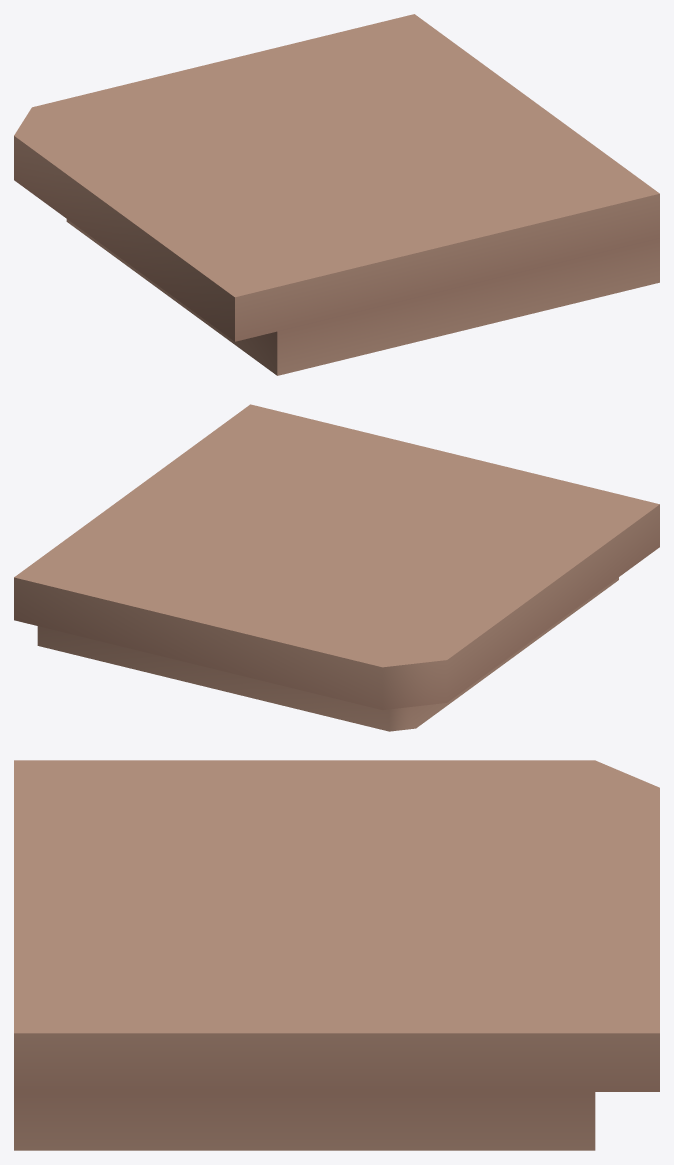
Rendered from surfaces-quarter-surface-edge.glb.
3 views of the same model, one above another, from view 1: azimuth 30°, elevation 25°; view 2: azimuth 150°, elevation 25°; view 3: azimuth 270°, elevation 25° (orthographic). The views are drawn at different scales.
Parts seen in each view (by area): view 1: surfaces-quarter-surface-edge; view 2: surfaces-quarter-surface-edge; view 3: surfaces-quarter-surface-edge.
Boxes of the visible parts, box(x1,y1,x2,y2) form: surfaces-quarter-surface-edge: box(14, 14, 659, 375); surfaces-quarter-surface-edge: box(14, 404, 659, 731); surfaces-quarter-surface-edge: box(14, 760, 659, 1150).
Size of the model in its own units: 0.5 by 0.1 by 0.5.
